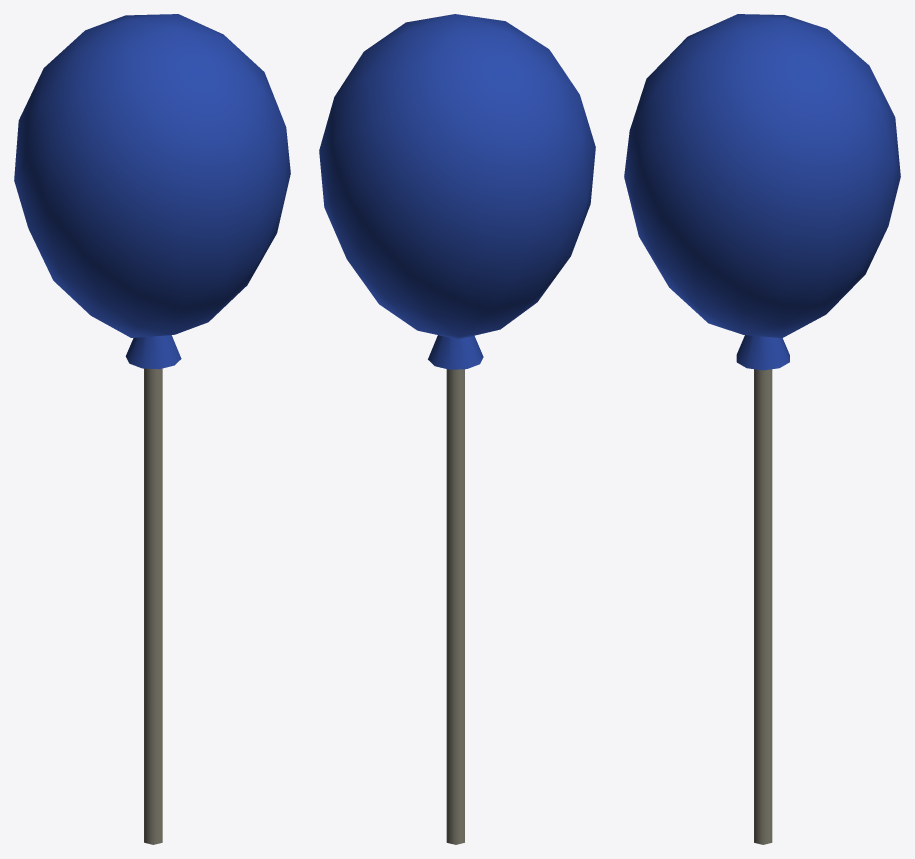
File: baloon_04.fbx
The picture shows the model from 3 angles, left to right: view 1: azimuth 30°, elevation 25°; view 2: azimuth 150°, elevation 25°; view 3: azimuth 270°, elevation 25°; orthographic projection.
Parts seen in each view (by area): view 1: baloon_04; view 2: baloon_04; view 3: baloon_04.
Boxes of the visible parts, <box> form: baloon_04: <box>14,14,290,844</box>; baloon_04: <box>319,14,595,844</box>; baloon_04: <box>624,14,900,844</box>.
Bounding box in the file's own units: 75.08 × 247 × 76.18.
